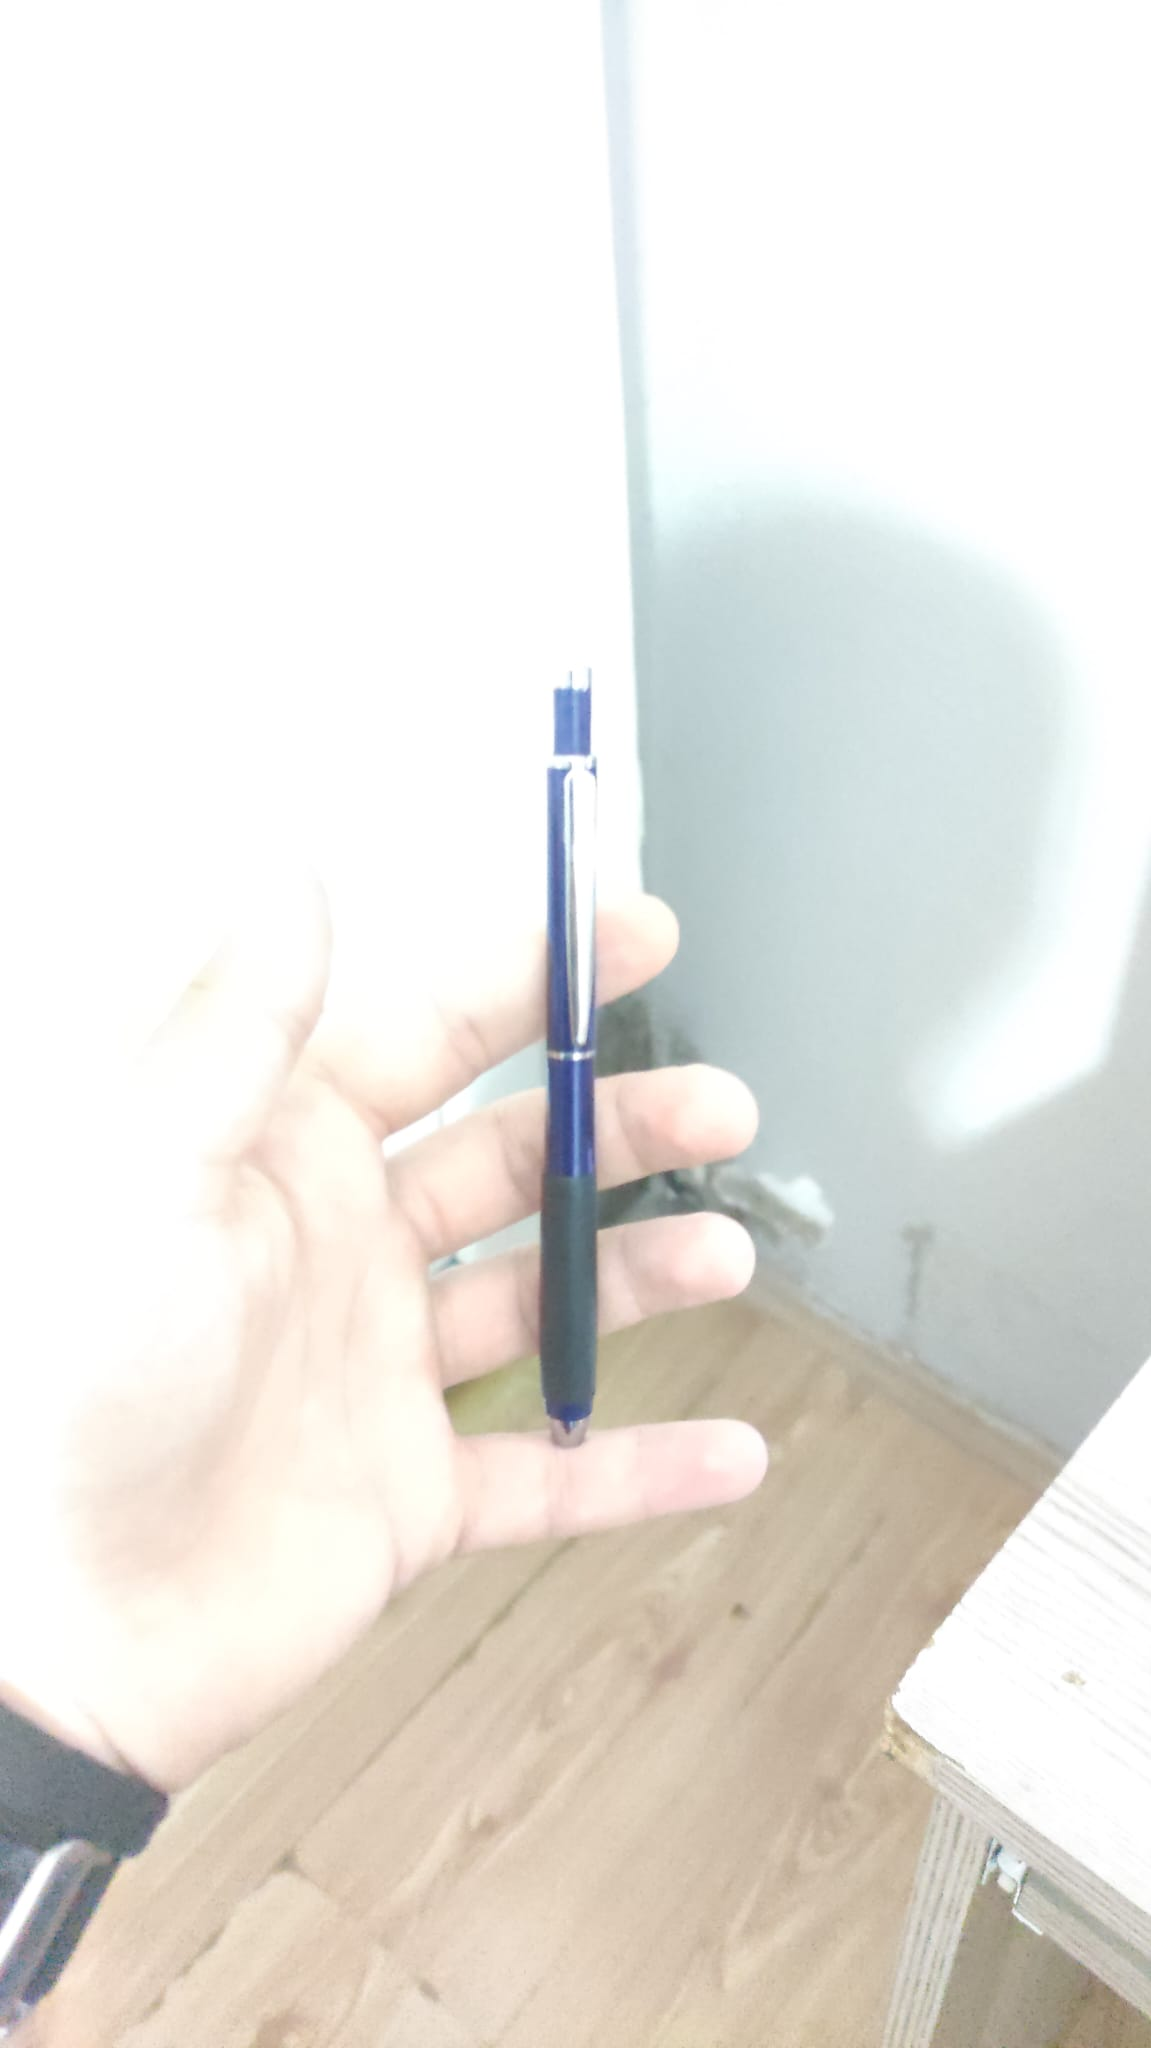kalem: (540, 664, 597, 1440)
